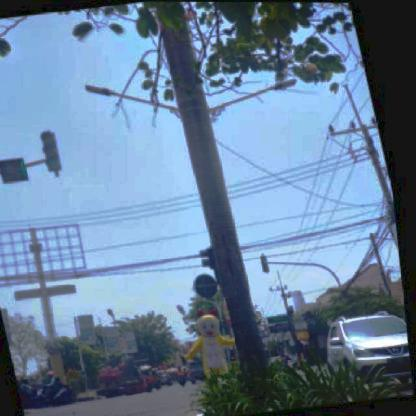Traffic Light -Green-: (43, 131, 68, 174)
